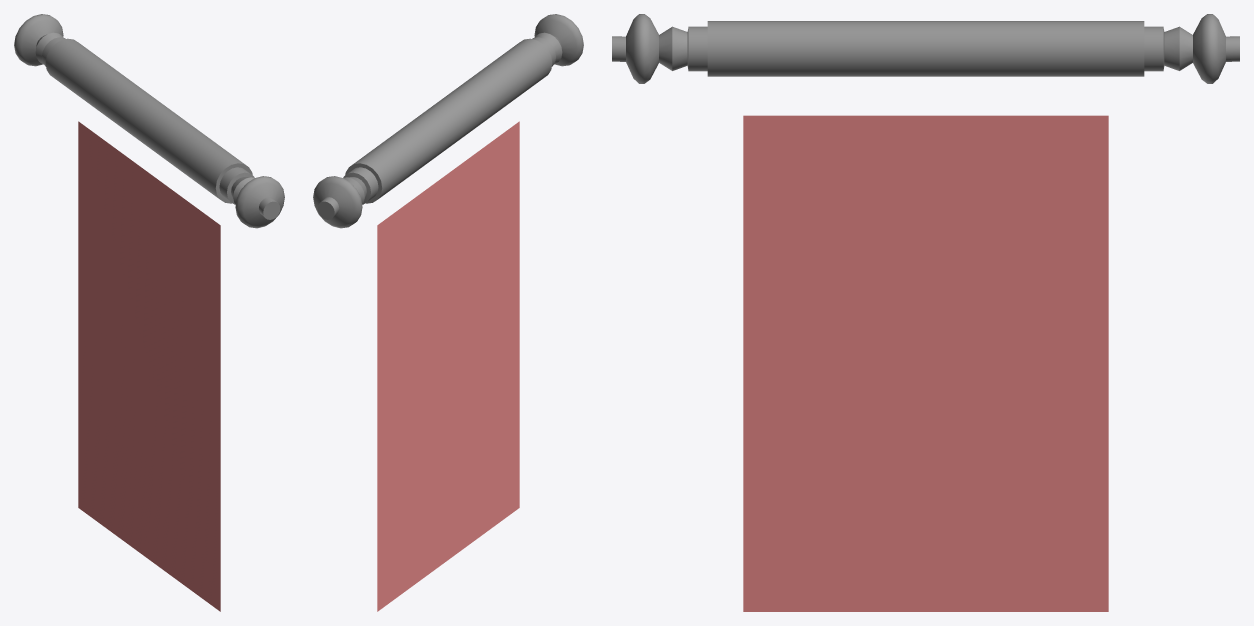
Rendered from Mesh_Scroll.FBX.
3 renders of one model, left to right at view 1: azimuth 30°, elevation 25°; view 2: azimuth 150°, elevation 25°; view 3: azimuth 270°, elevation 25°, orthographic. The views are drawn at different scales.
Parts seen in each view (by area): view 1: Plane001, Cylinder001; view 2: Plane001, Cylinder001; view 3: Plane001, Cylinder001.
Part boxes in pixels (bbox=[...]): Plane001: bbox=[78, 121, 220, 611]; Cylinder001: bbox=[14, 14, 284, 228]; Plane001: bbox=[377, 121, 519, 611]; Cylinder001: bbox=[313, 14, 583, 228]; Plane001: bbox=[743, 115, 1108, 611]; Cylinder001: bbox=[612, 14, 1239, 83].
Bounding box in the file's own units: 26.64 × 249 × 239.
